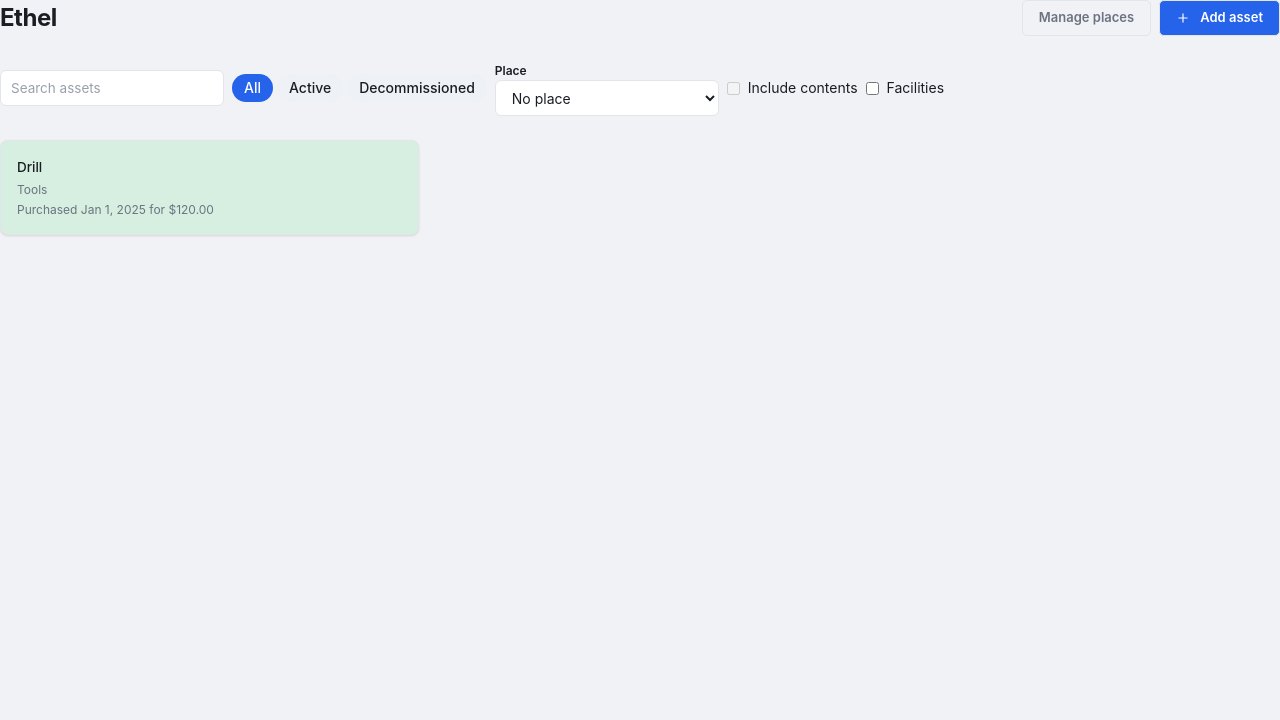
Test: EthelPage › refreshes the open detail view and TCO panel after a decommission with no transaction picked
Click the text "Drill" at (30, 167), box [17,159,42,175]
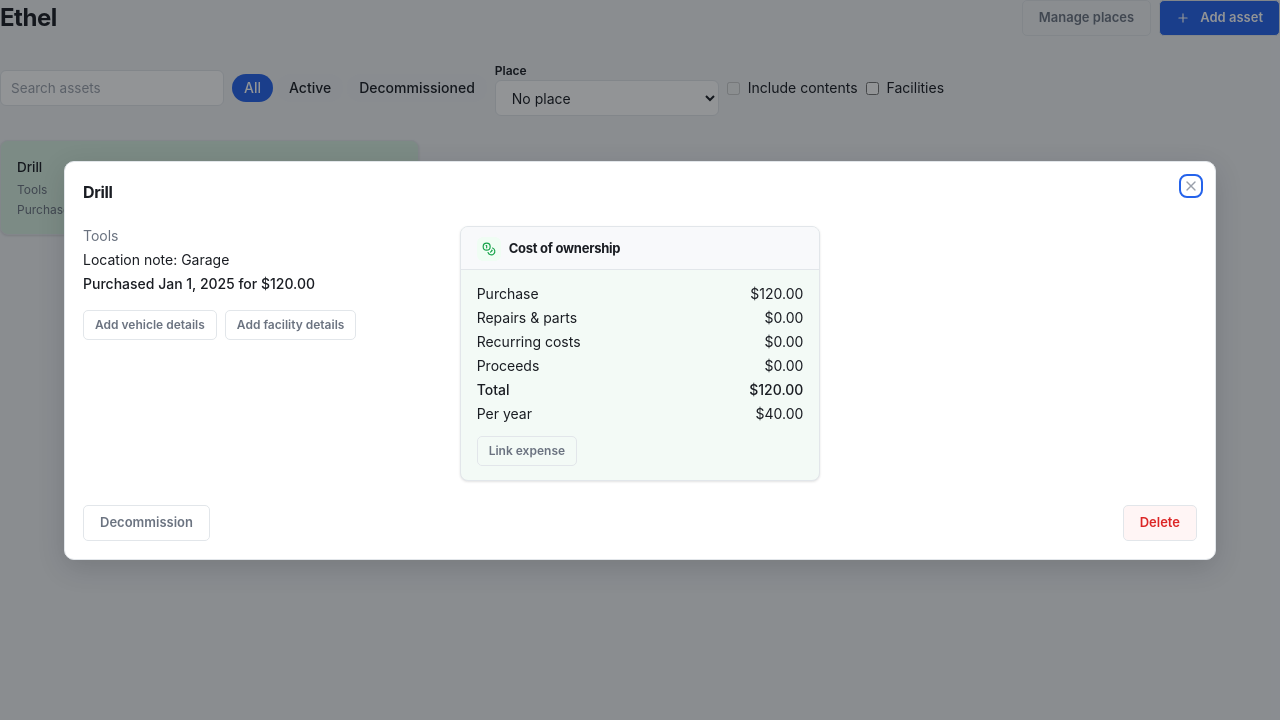
Click the button "Decommission" at (146, 522), box [83,504,210,540]
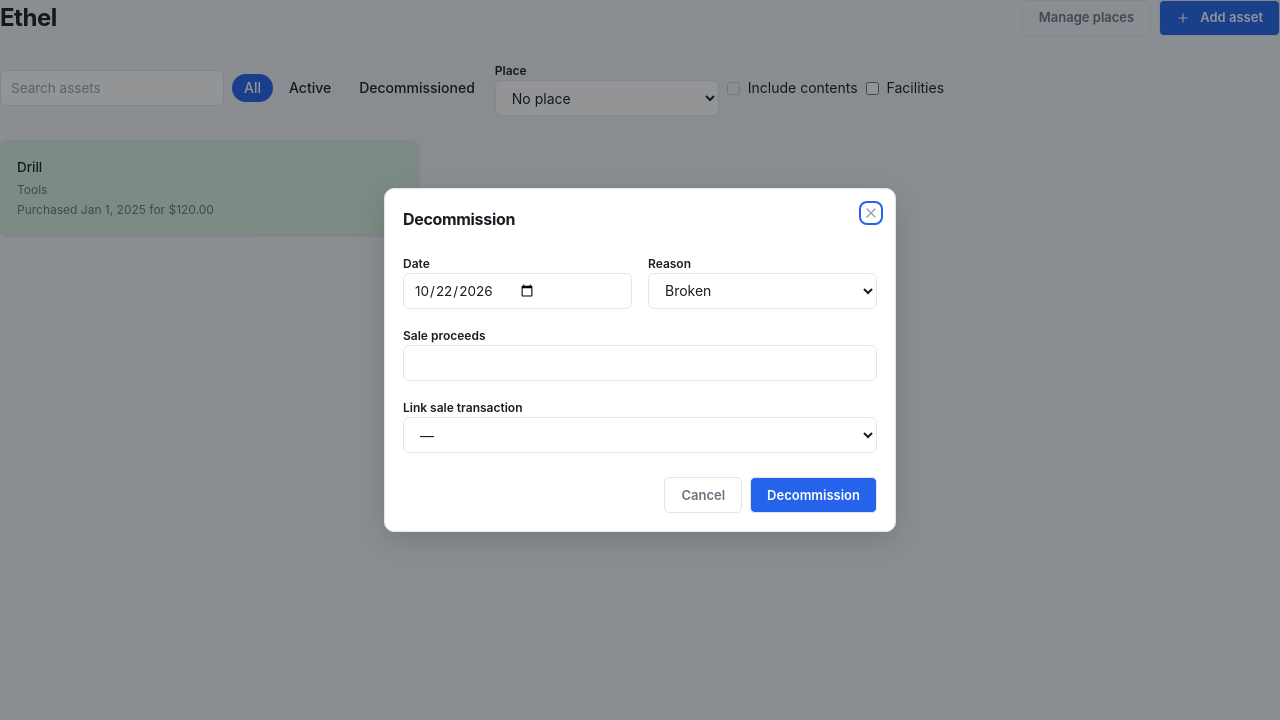
Click the button "Decommission" at (814, 495), box [750,477,877,513]
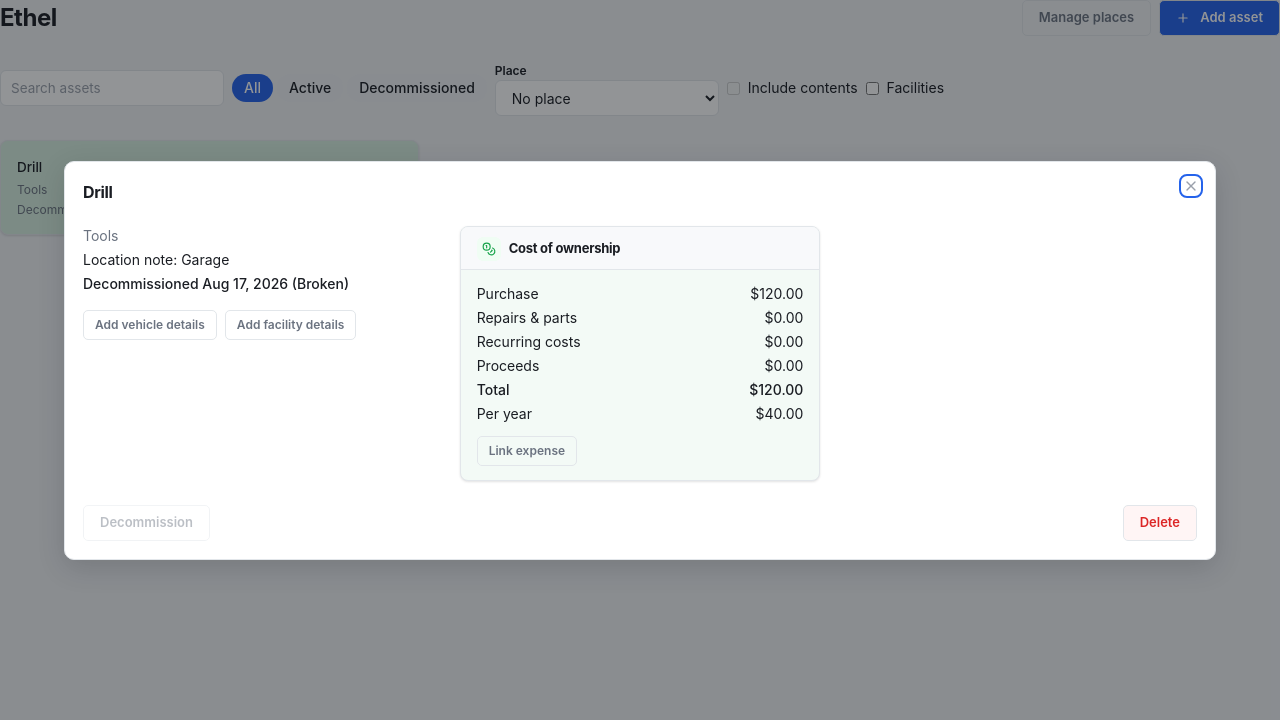
Expected: the 1st text "Decommissioned Aug 17, 2026 (Broken)" is shown, [17,202,243,216]
Expected: the button "Decommission" is disabled, [83,504,210,540]
